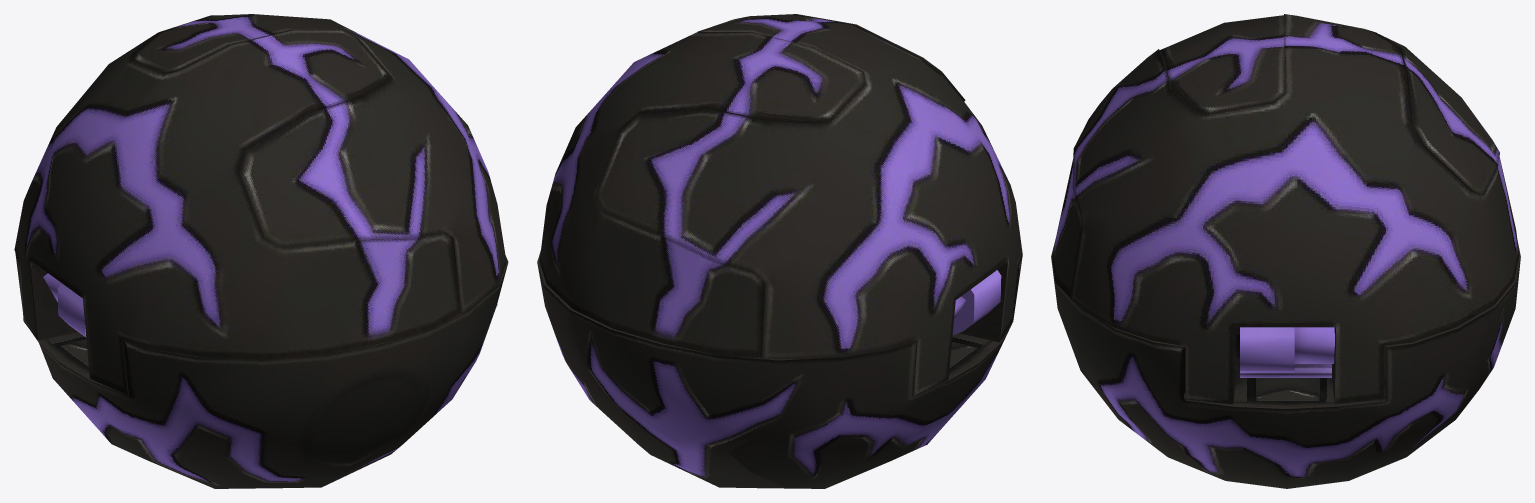
File: ball.glb
3 renders of one model, left to right at view 1: azimuth 30°, elevation 25°; view 2: azimuth 150°, elevation 25°; view 3: azimuth 270°, elevation 25°, orthographic. The views are drawn at different scales.
Size of the model in its own units: 1.74 by 1.75 by 1.78.
1 material, 1 textured.
